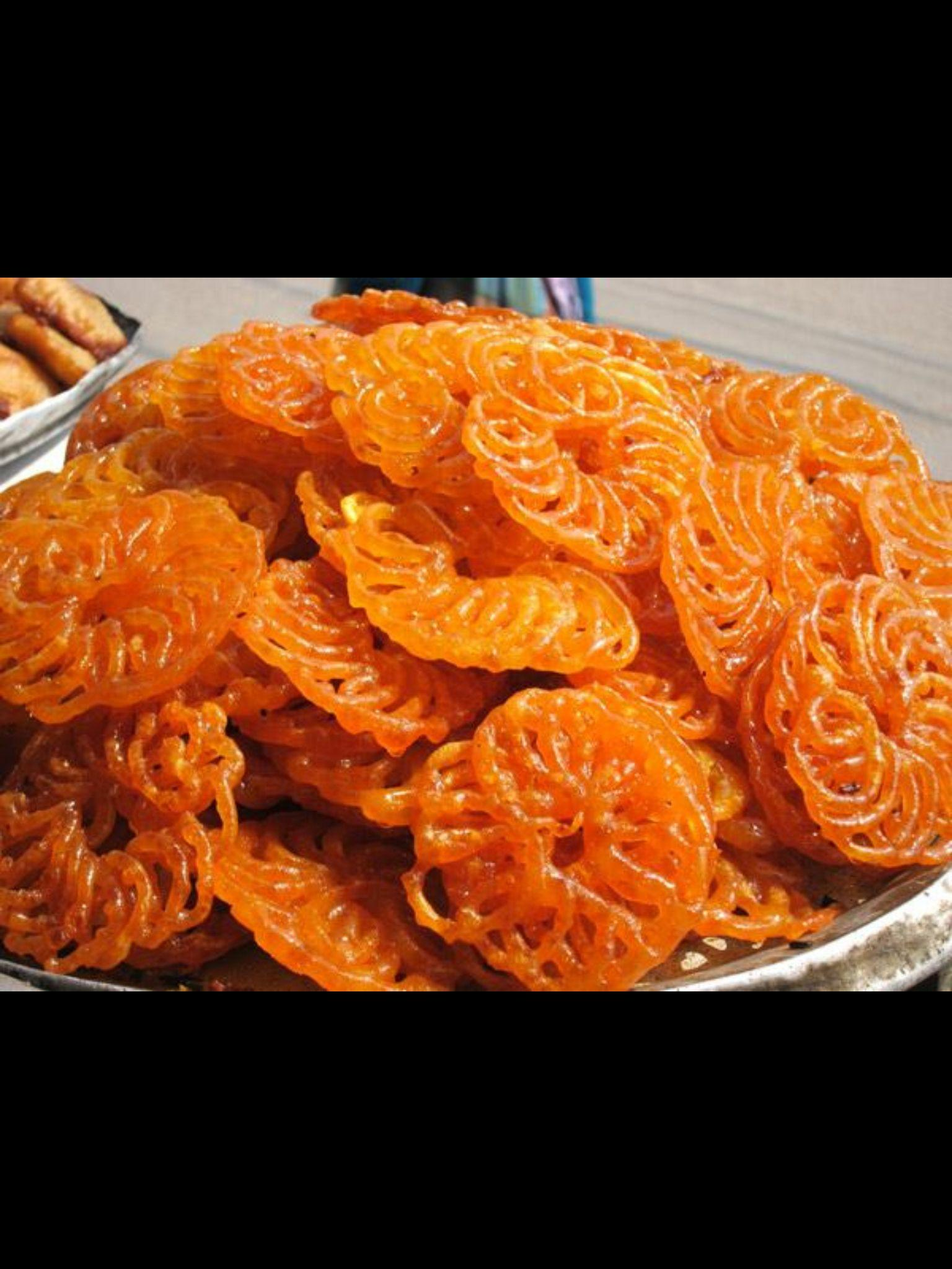Jalebi: (4, 289, 950, 988)
